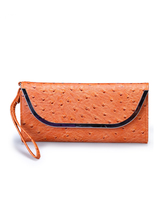bag: (5, 76, 157, 159)
